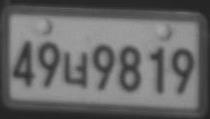1: (147, 46, 169, 94)
4: (11, 40, 37, 88)
8: (119, 45, 142, 92)
9: (171, 47, 196, 94), (91, 44, 116, 90), (38, 40, 60, 87)
너: (62, 50, 88, 86)
